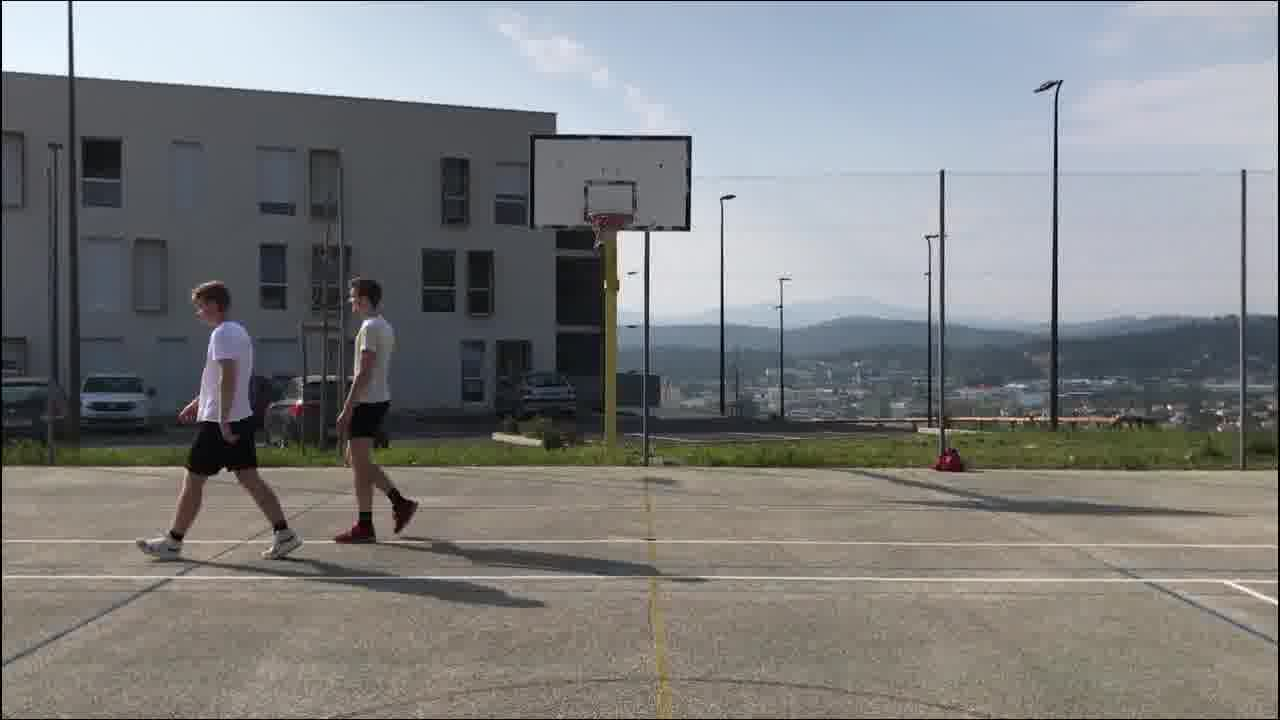jugador: (313, 264, 425, 550)
